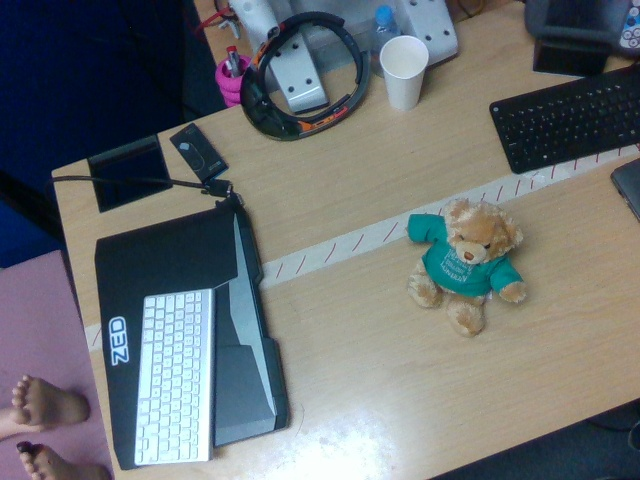teddy: (407, 199, 530, 337)
